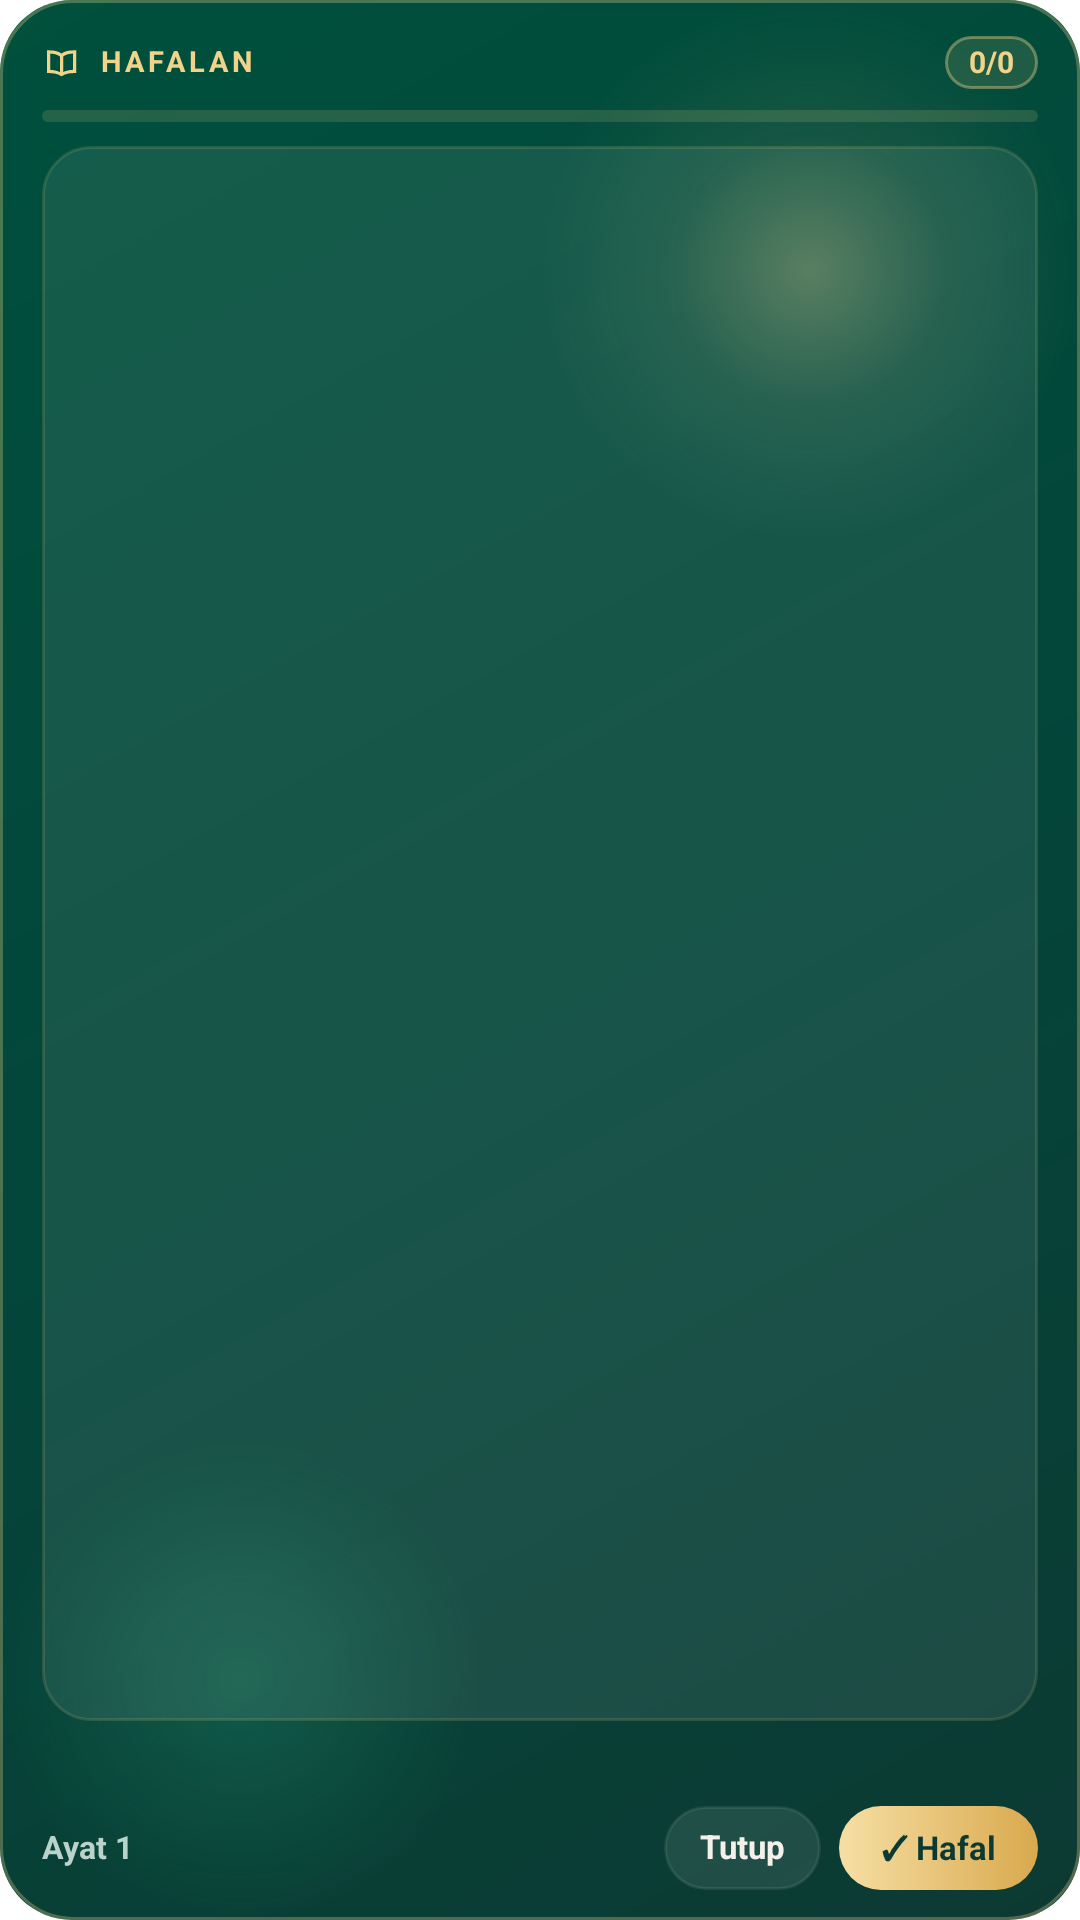

Where to tap for icons on this 1080×1920 app screen, as point (x, y):
tracker book: point (62, 63)
